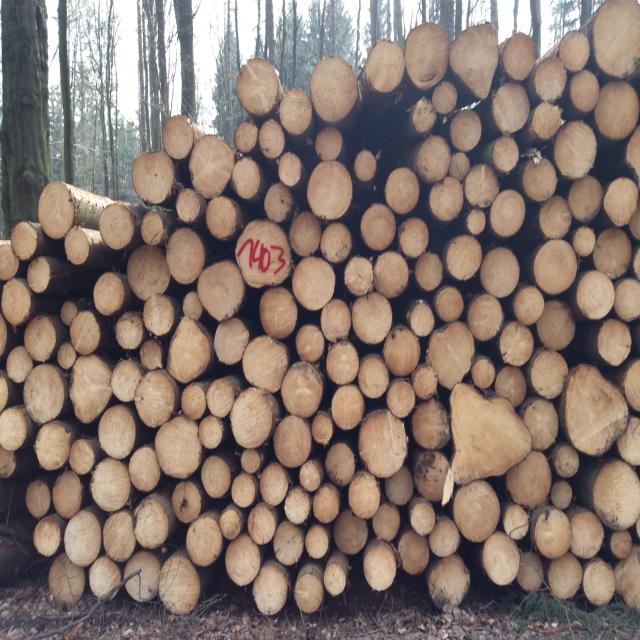wood-log: (452, 382, 532, 481), (560, 362, 627, 454), (233, 222, 292, 290), (590, 0, 638, 76), (452, 22, 499, 98), (356, 411, 406, 479), (311, 57, 360, 123), (594, 460, 640, 530), (427, 322, 475, 388), (454, 478, 503, 540), (404, 21, 450, 87), (154, 413, 201, 476), (190, 134, 237, 197), (196, 260, 245, 320), (69, 358, 112, 426), (170, 320, 215, 384), (230, 388, 276, 449), (308, 162, 354, 221), (596, 82, 640, 142), (506, 452, 553, 508), (233, 56, 278, 114), (553, 119, 597, 178), (242, 334, 288, 390), (133, 369, 177, 427), (22, 362, 64, 422), (534, 240, 579, 296), (159, 556, 201, 615), (126, 246, 170, 302), (132, 150, 175, 204), (282, 362, 324, 417), (294, 258, 337, 311), (90, 460, 132, 512), (166, 227, 205, 283), (351, 292, 392, 344), (64, 509, 102, 565), (410, 398, 450, 451), (97, 404, 136, 458), (480, 247, 521, 298), (366, 41, 406, 93), (430, 557, 470, 609), (482, 532, 520, 586), (40, 181, 76, 238), (492, 83, 532, 134), (134, 494, 171, 549), (272, 417, 311, 469), (593, 228, 633, 278), (261, 287, 300, 338), (537, 299, 576, 350), (532, 507, 571, 558), (186, 514, 224, 566), (413, 450, 451, 502), (576, 270, 616, 319), (254, 562, 290, 616), (226, 534, 263, 586), (50, 551, 87, 603), (528, 349, 568, 397), (524, 400, 562, 450), (124, 550, 160, 602), (382, 327, 420, 376), (35, 422, 72, 472), (414, 136, 452, 184), (102, 510, 137, 561), (213, 318, 250, 366), (569, 508, 604, 558), (362, 541, 396, 592), (491, 190, 527, 238), (603, 178, 639, 226), (468, 292, 504, 340), (503, 33, 540, 79), (100, 203, 137, 249), (548, 552, 584, 599), (567, 176, 603, 223), (277, 88, 312, 136), (385, 166, 420, 214), (446, 235, 483, 280), (360, 204, 396, 250), (374, 252, 410, 298), (520, 157, 558, 200), (532, 56, 568, 101), (24, 315, 59, 361), (597, 319, 631, 366), (498, 323, 535, 366), (334, 510, 370, 554), (430, 177, 465, 222), (287, 211, 322, 256), (332, 385, 366, 431), (582, 560, 615, 607), (616, 545, 640, 609), (327, 340, 361, 385), (128, 445, 162, 490), (538, 194, 571, 240), (465, 164, 501, 206), (89, 557, 124, 600), (162, 117, 197, 160), (349, 472, 381, 518), (273, 519, 305, 565), (206, 196, 239, 240), (52, 472, 83, 518), (0, 280, 31, 326), (326, 442, 358, 486), (113, 356, 145, 400), (72, 310, 103, 355), (359, 354, 392, 396), (399, 531, 430, 575), (494, 365, 528, 405), (142, 294, 174, 336), (450, 110, 482, 152), (94, 272, 125, 315), (200, 456, 231, 499), (172, 479, 202, 523), (260, 464, 290, 507), (558, 32, 590, 72), (399, 219, 431, 259), (320, 299, 350, 341), (232, 158, 262, 200), (513, 285, 546, 323), (430, 517, 461, 557), (344, 257, 375, 297), (321, 221, 352, 261), (296, 570, 324, 614), (0, 406, 28, 450), (247, 503, 277, 544), (517, 550, 546, 592), (570, 72, 600, 112), (414, 253, 444, 293), (33, 514, 61, 556), (386, 379, 416, 418), (207, 378, 236, 418), (533, 101, 564, 138), (114, 313, 144, 351), (265, 183, 294, 222), (296, 326, 326, 363), (372, 503, 402, 540), (490, 137, 520, 174), (7, 345, 36, 383), (384, 467, 413, 505), (618, 418, 640, 468), (312, 486, 340, 524), (12, 222, 40, 260), (615, 279, 640, 321), (436, 286, 466, 321), (621, 358, 640, 413), (408, 301, 436, 338), (260, 120, 286, 159), (503, 504, 530, 541), (410, 500, 438, 535), (26, 479, 51, 518), (283, 489, 310, 525), (175, 188, 202, 224), (71, 439, 98, 475), (316, 126, 344, 160), (232, 474, 259, 508), (64, 228, 88, 266), (412, 365, 438, 400), (180, 384, 205, 420), (198, 415, 224, 449), (432, 82, 458, 115), (554, 444, 580, 477), (28, 258, 52, 293), (412, 99, 436, 133), (311, 411, 335, 445), (471, 357, 497, 388), (141, 211, 164, 246), (299, 460, 324, 492), (278, 153, 302, 186), (306, 524, 330, 557), (0, 241, 20, 280), (573, 227, 597, 259), (236, 121, 259, 154), (324, 562, 346, 596), (139, 339, 163, 370), (626, 125, 640, 178), (221, 507, 243, 539), (354, 150, 376, 182), (550, 480, 573, 510), (58, 340, 79, 370), (612, 530, 634, 558), (182, 292, 203, 321), (465, 207, 486, 235), (452, 150, 471, 180), (240, 448, 262, 472), (0, 443, 15, 478), (61, 300, 80, 326), (0, 370, 9, 410), (628, 212, 640, 241), (0, 316, 8, 358), (633, 251, 640, 280)
